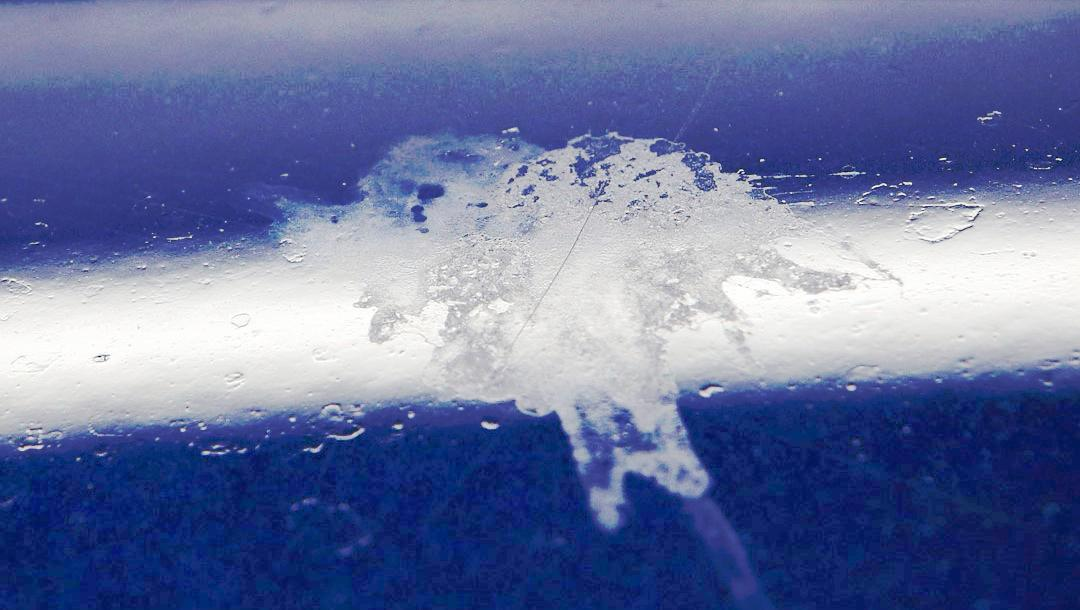Bird Poop: (354, 134, 895, 609)
